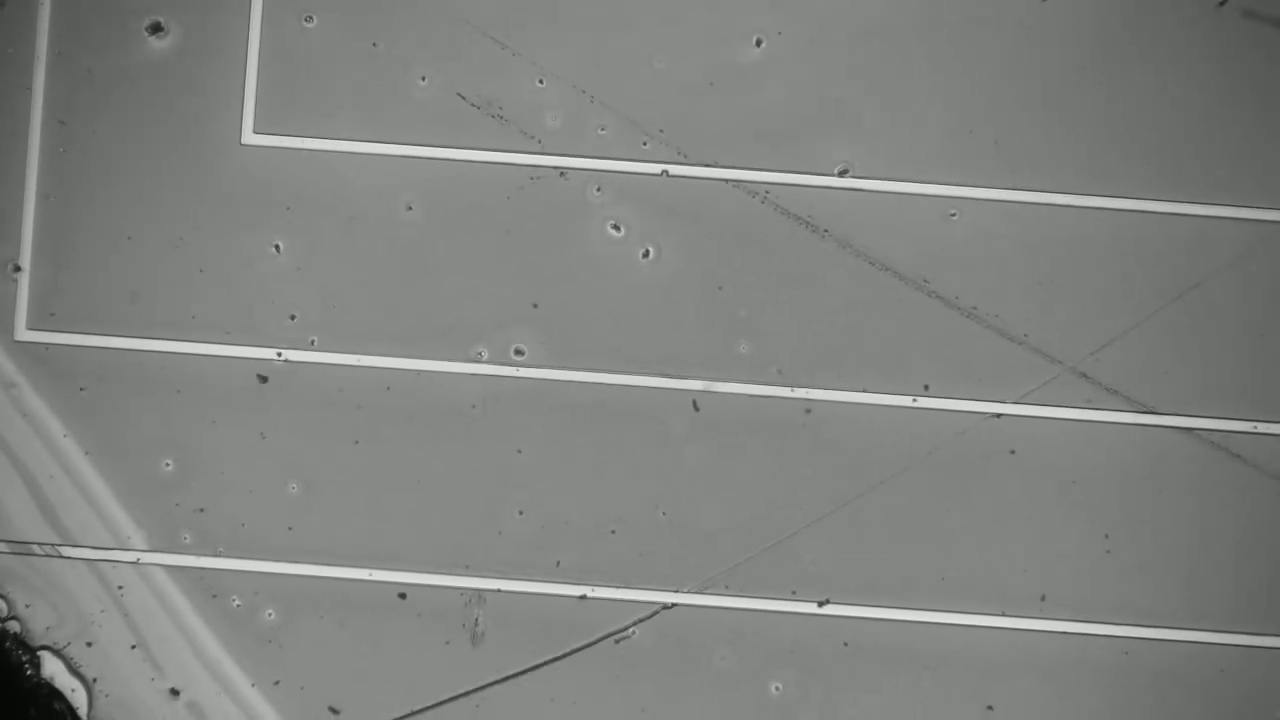edge_bite: (654, 158, 677, 185)
gray_line: (0, 532, 74, 566)
scratch: (475, 30, 1263, 470), (684, 285, 1196, 593), (398, 609, 663, 720)
stains_enbedded: (3, 252, 40, 284), (805, 590, 840, 622)
